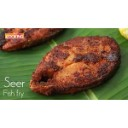seerfish: (30, 39, 121, 91)
